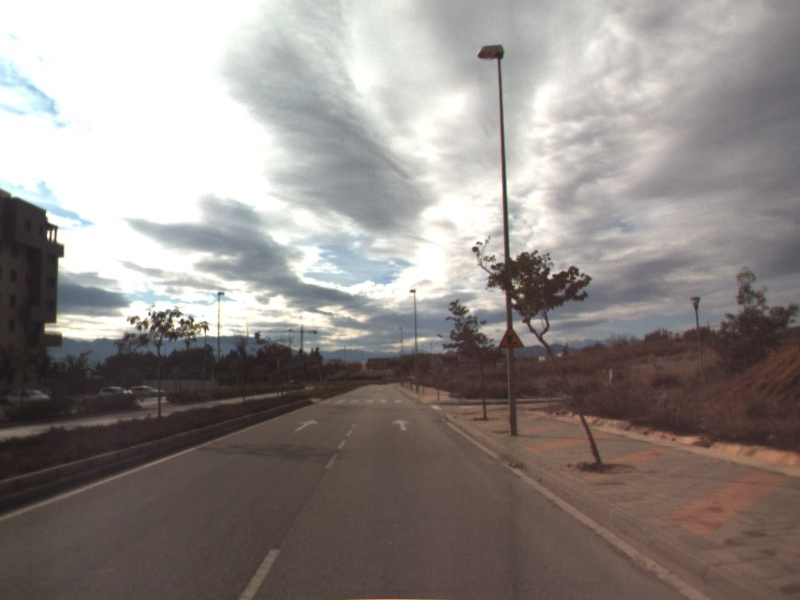STRAIGHT: (292, 417, 321, 433), (390, 417, 413, 433)
